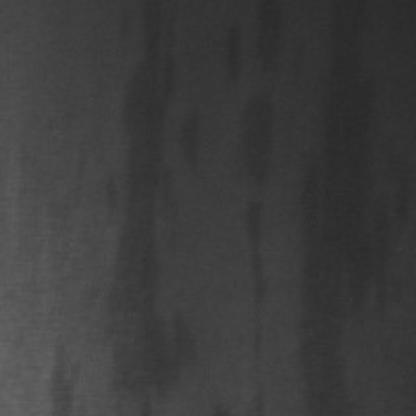inclusion: (295, 0, 393, 406), (104, 0, 193, 399), (216, 0, 272, 410), (37, 337, 75, 412)
